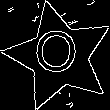O_S: (35, 29, 83, 84)
